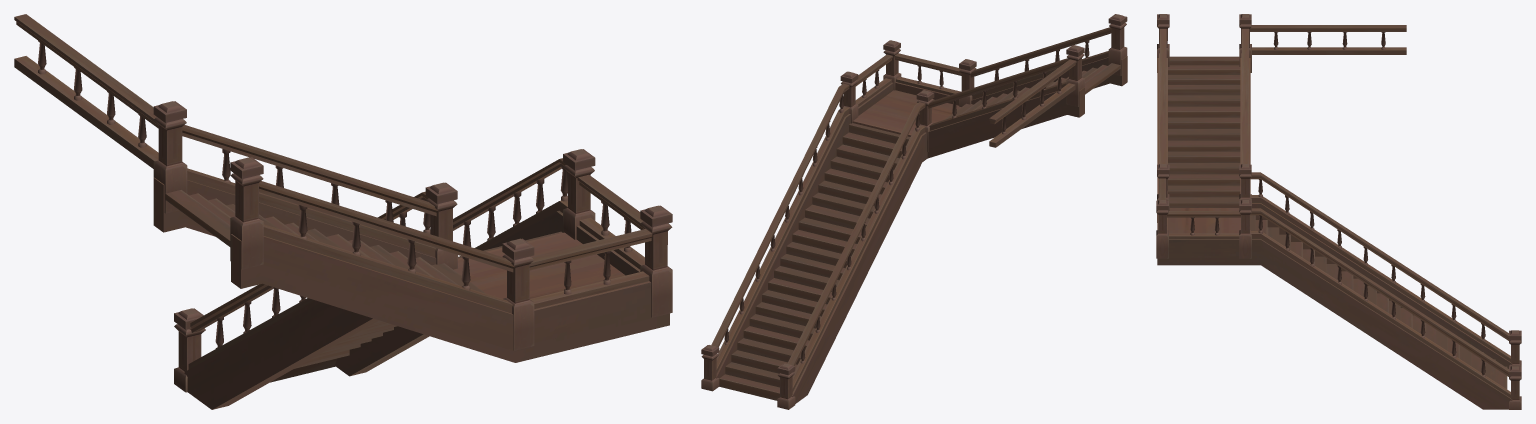
File: Homeworld_Interior_Md_Room_P_Stair_01_01_Vo.fbx
The picture shows the model from 3 angles, left to right: view 1: azimuth 30°, elevation 25°; view 2: azimuth 150°, elevation 25°; view 3: azimuth 270°, elevation 25°; orthographic projection. The views are drawn at different scales.
Visible parts, largest first — view 1: Homeworld_Interior_Md_Room_P_Stair_01_01_Vo; view 2: Homeworld_Interior_Md_Room_P_Stair_01_01_Vo; view 3: Homeworld_Interior_Md_Room_P_Stair_01_01_Vo.
Boxes of the visible parts, x1,y1,x2,y2 form: Homeworld_Interior_Md_Room_P_Stair_01_01_Vo: (14,14,672,409); Homeworld_Interior_Md_Room_P_Stair_01_01_Vo: (701,14,1127,409); Homeworld_Interior_Md_Room_P_Stair_01_01_Vo: (1156,14,1521,409).
Bounding box in the file's own units: 4.87 × 5.76 × 6.67.
